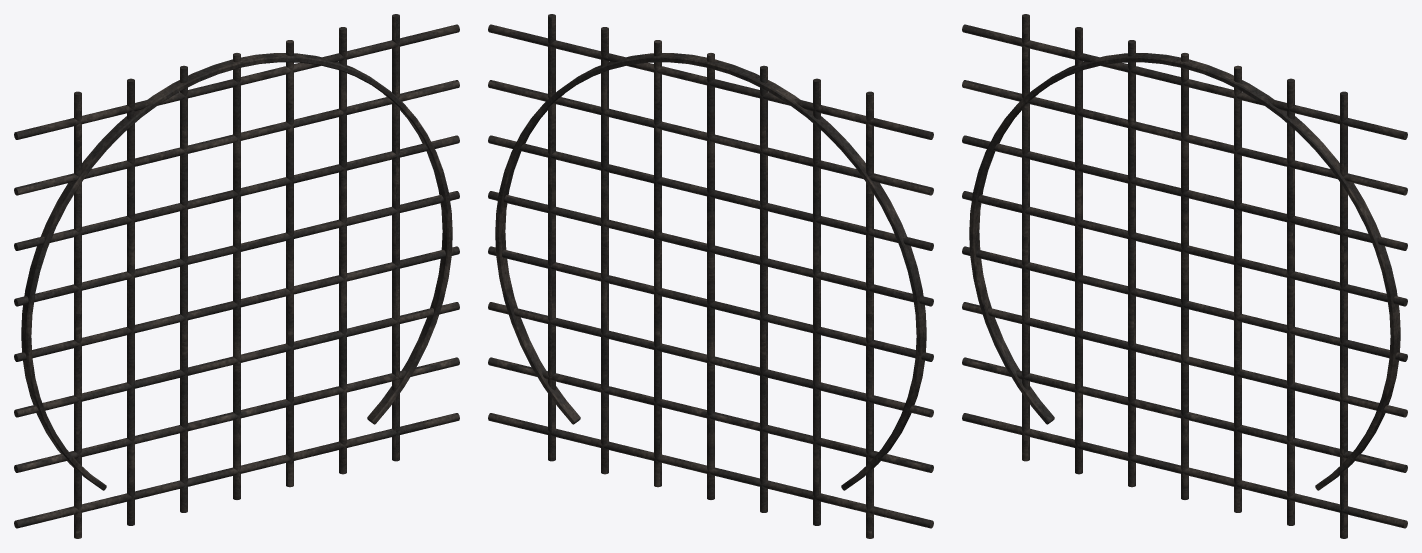
Rendered from bars_metal_2.obj.
3 views of the same model, side by side, from view 1: azimuth 30°, elevation 25°; view 2: azimuth 150°, elevation 25°; view 3: azimuth 330°, elevation 25° (orthographic).
Parts seen in each view (by area): view 1: bars_metal_2; view 2: bars_metal_2; view 3: bars_metal_2.
Boxes of the visible parts, box(x1,y1,x2,y2) form: bars_metal_2: box(14, 14, 459, 538); bars_metal_2: box(488, 14, 933, 538); bars_metal_2: box(962, 14, 1407, 538).
Size of the model in its own units: 2.5 by 2.4 by 0.06.
